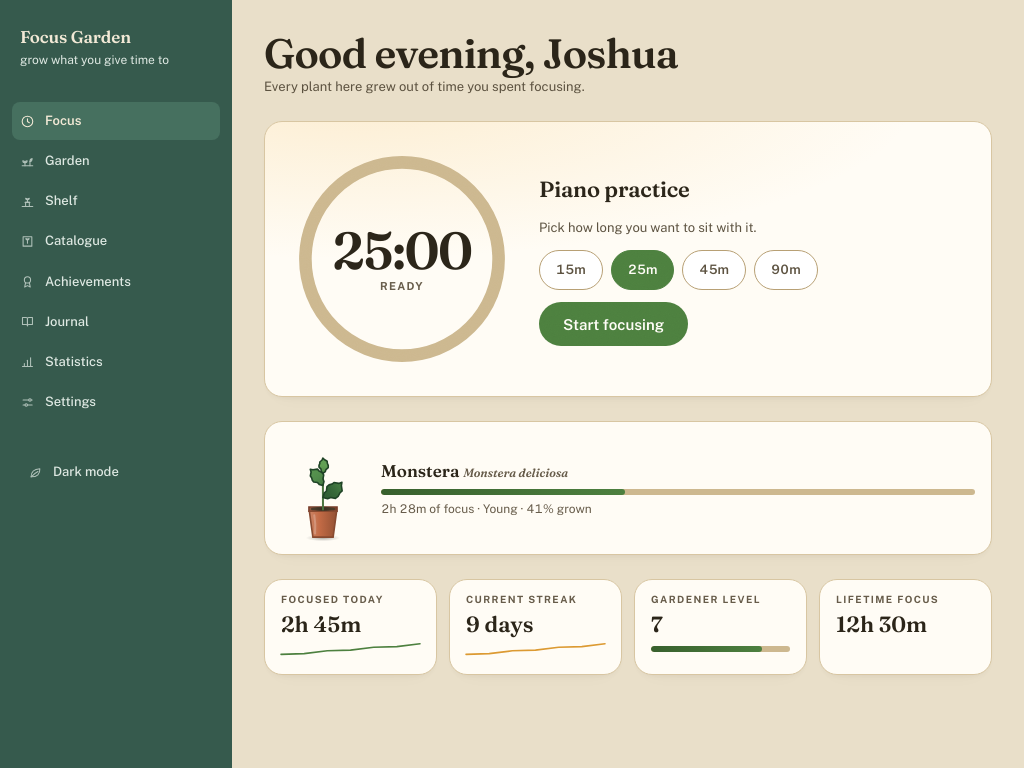
discarding a session › keeps going when the player says so
This screenshot has width=1024, height=768.
Click the button "Start focusing" at (614, 324), box [539,302,688,346]
Wait 60000 ms
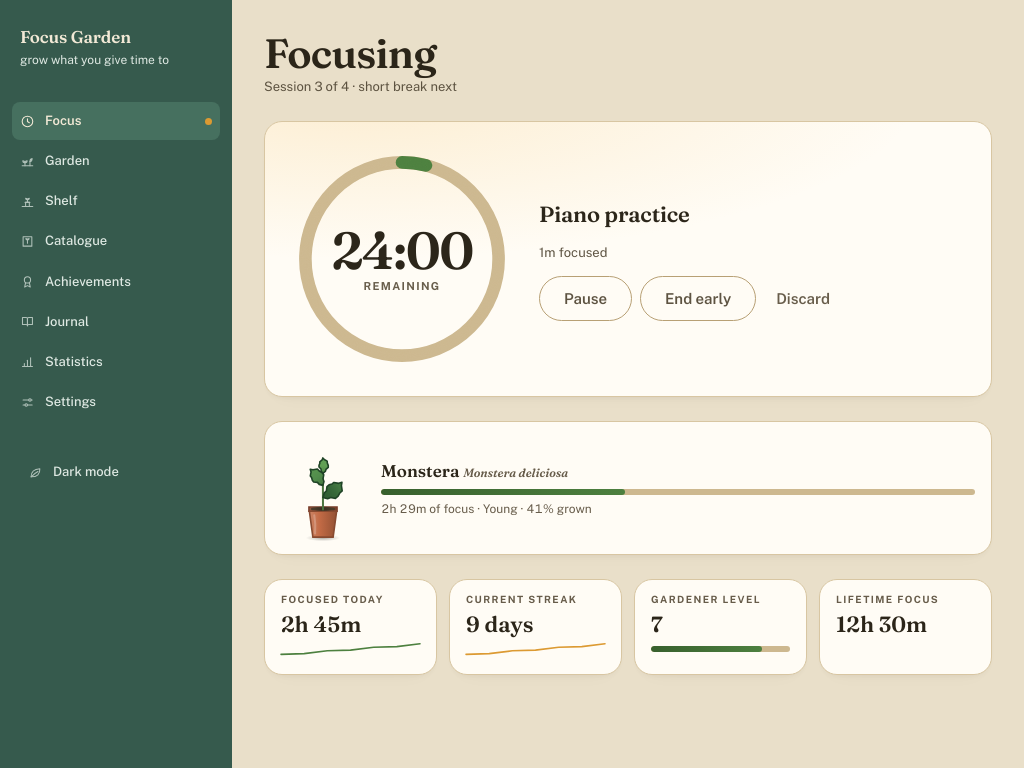
Click the button "Discard" at (803, 298), box [764,276,842,321]
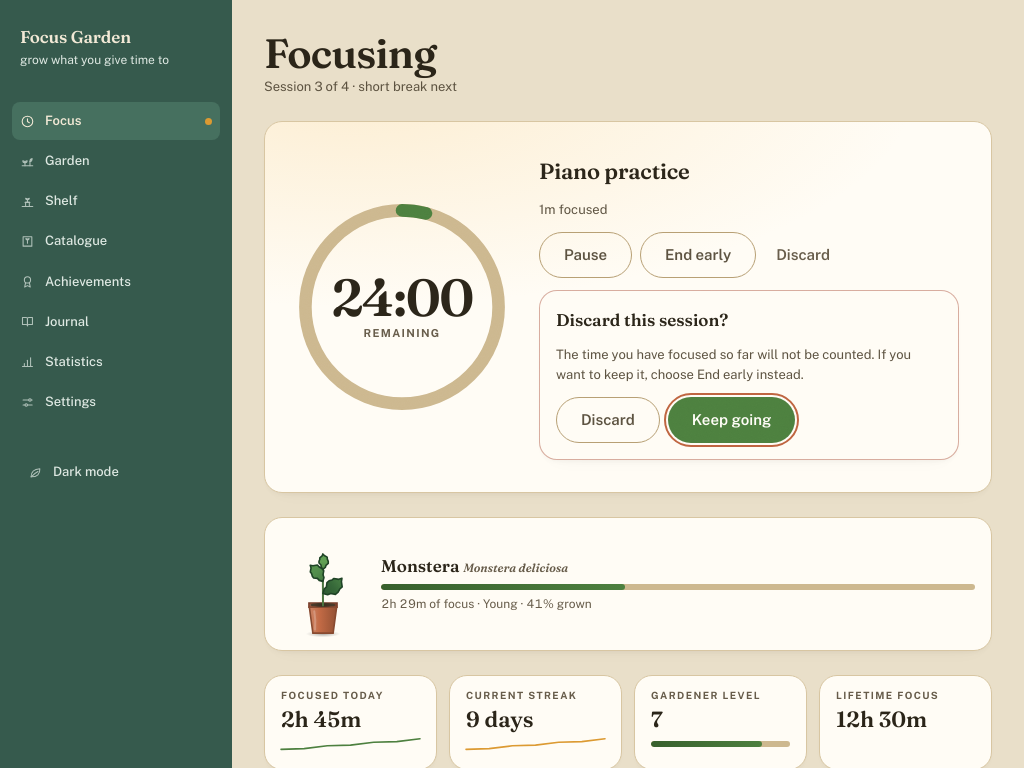
Click the button "Keep going" at (732, 420), box [668,397,795,443]
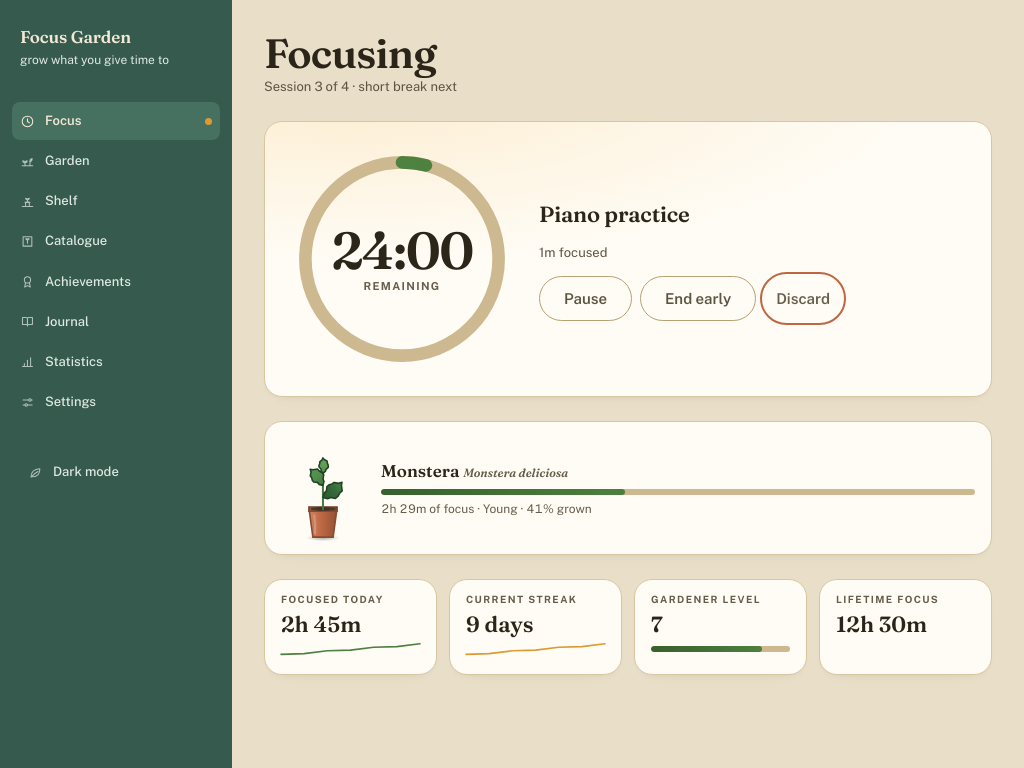
Expected: the button "Pause" is shown, [539,276,632,321]
Expected: the dialog is gone
